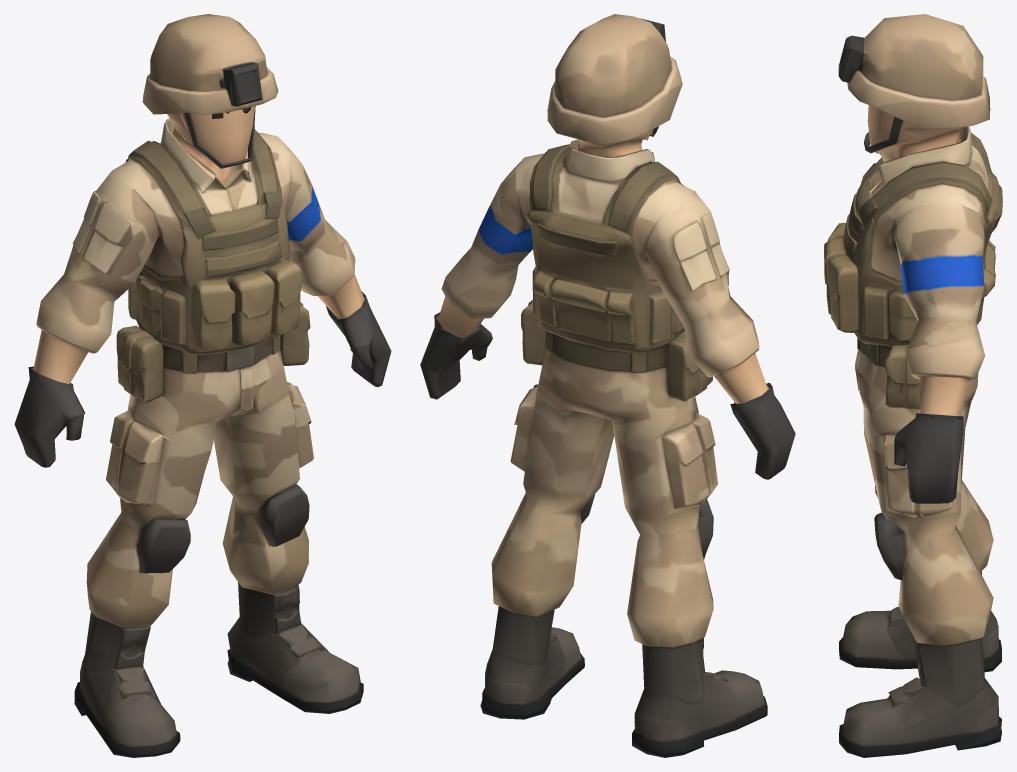
Rendered from infantry.glb.
The picture shows the model from 3 angles, left to right: view 1: azimuth 30°, elevation 25°; view 2: azimuth 150°, elevation 25°; view 3: azimuth 270°, elevation 25°; orthographic projection.
Visible parts, largest first — view 1: geometry_0; view 2: geometry_0; view 3: geometry_0.
Boxes of the visible parts, bbox=[...] form: geometry_0: bbox=[14, 14, 391, 757]; geometry_0: bbox=[420, 14, 795, 757]; geometry_0: bbox=[824, 14, 1002, 757].
Size of the model in its own units: 0.5244 by 0.9512 by 0.228.
Materials: 1 (1 with a texture image).
